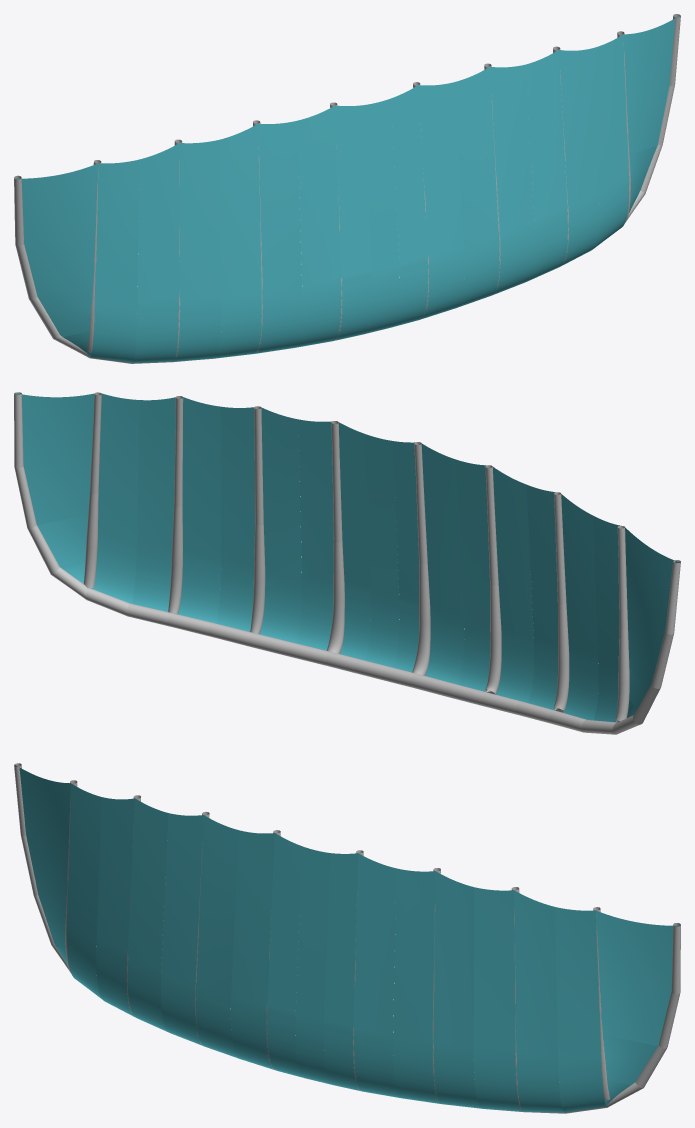
Rendered from voile.glb.
3 renders of one model, top to bottom at view 1: azimuth 30°, elevation 25°; view 2: azimuth 150°, elevation 25°; view 3: azimuth 330°, elevation 25°, orthographic.
Visible parts, largest first — view 1: Mesh (×23); view 2: Mesh (×30); view 3: Mesh (×24).
Boxes of the visible parts, x1,y1,x2,y2 form: Mesh (×23): [14, 14, 680, 363]; Mesh (×30): [14, 392, 680, 734]; Mesh (×24): [14, 763, 680, 1113].
Size of the model in its own units: 12480 by 4311 by 1446.
